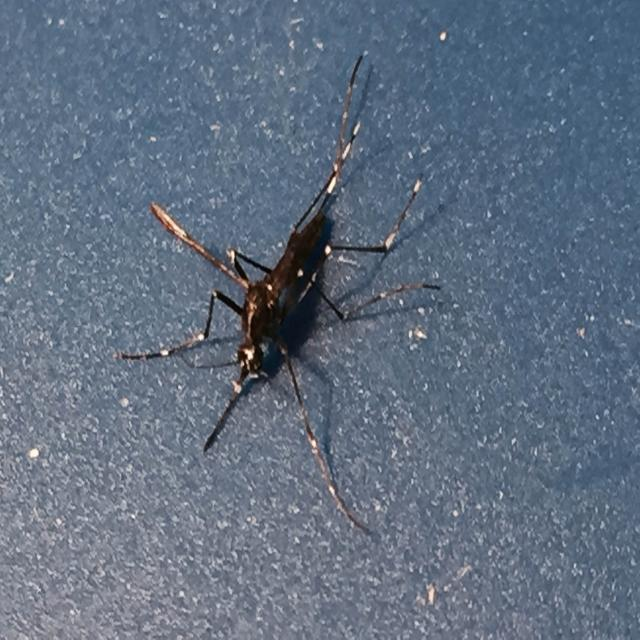albopictus: (120, 28, 444, 512)
